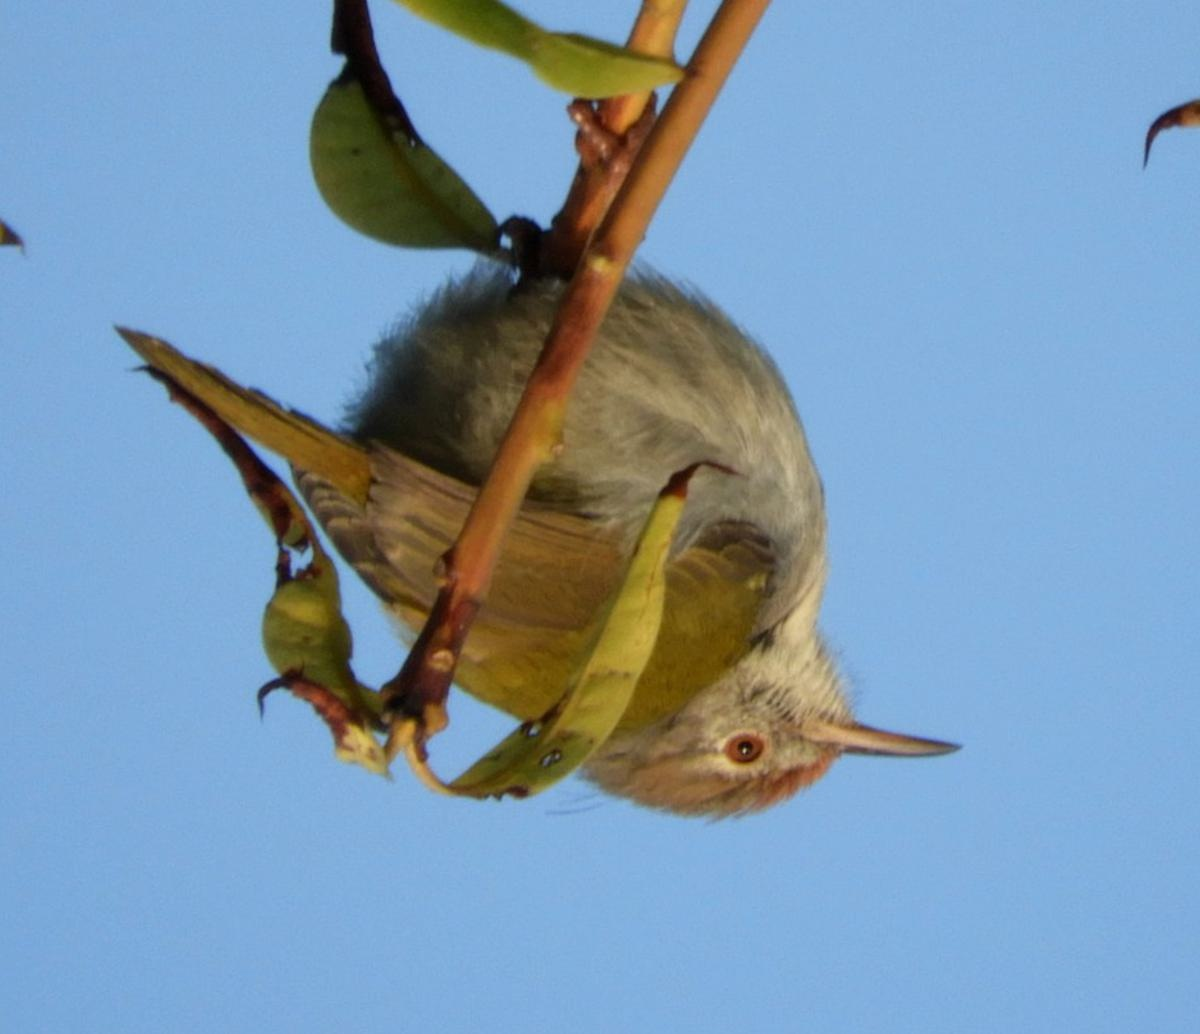tailorbird: (162, 199, 956, 869)
